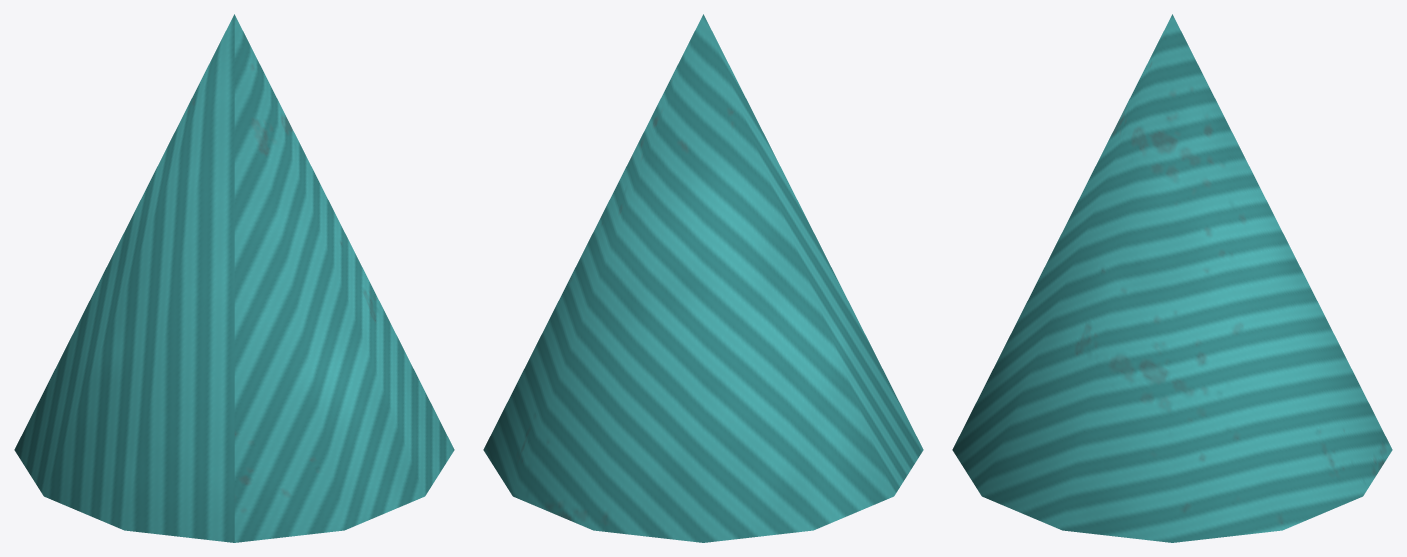
File: partyHat.glb
3 views of the same model, side by side, from view 1: azimuth 30°, elevation 25°; view 2: azimuth 150°, elevation 25°; view 3: azimuth 270°, elevation 25° (orthographic).
Visible parts, largest first — view 1: Hat_PartHat; view 2: Hat_PartHat; view 3: Hat_PartHat.
Boxes of the visible parts, x1,y1,x2,y2 form: Hat_PartHat: (14,14,454,542); Hat_PartHat: (483,14,923,542); Hat_PartHat: (952,14,1392,542).
Size of the model in its own units: 0.8111 by 0.8862 by 0.8111.
1 material, 1 textured.
